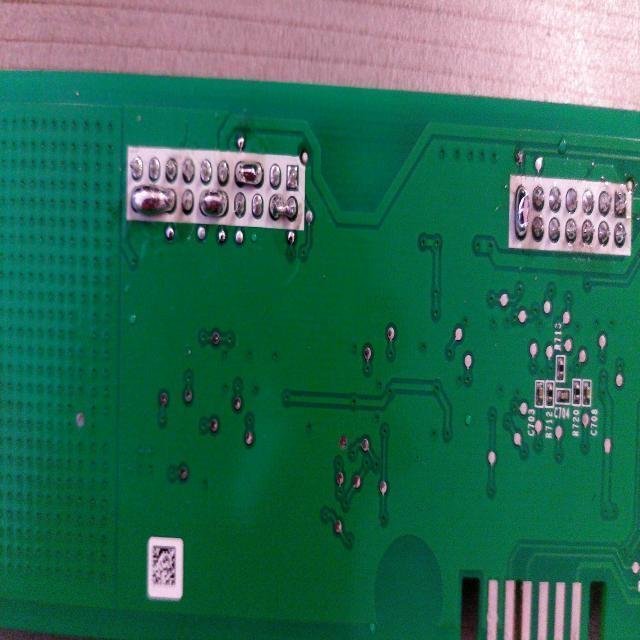Soldering shorted: (130, 184, 178, 218), (512, 182, 530, 238), (234, 160, 266, 190), (268, 195, 300, 222), (198, 192, 230, 217)
